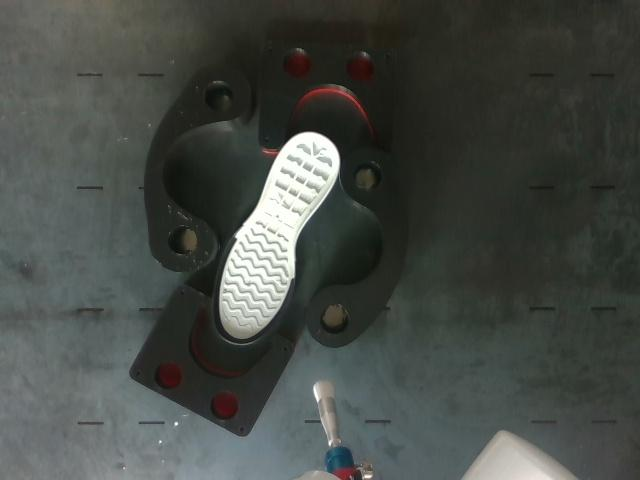shoes: (215, 134, 339, 345)
